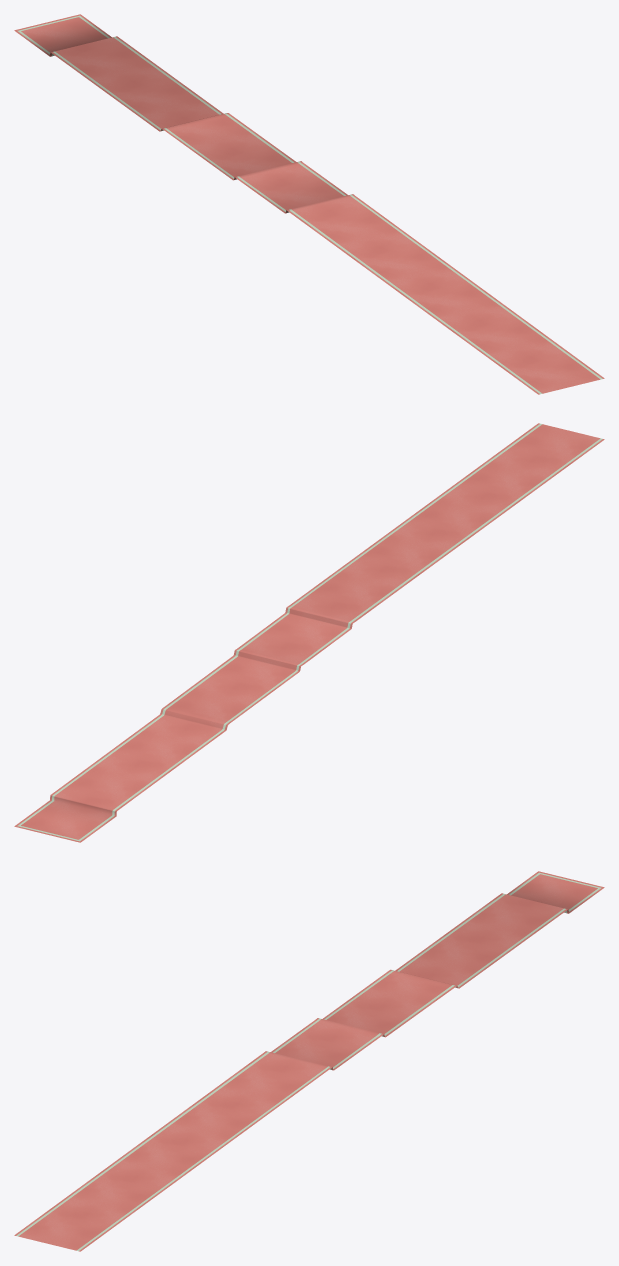
File: RedCarpet.glb
3 views of the same model, one above another, from view 1: azimuth 30°, elevation 25°; view 2: azimuth 150°, elevation 25°; view 3: azimuth 330°, elevation 25° (orthographic).
Visible parts, largest first — view 1: Red_Carpet; view 2: Red_Carpet; view 3: Red_Carpet.
Part boxes in pixels (box(x1,y1,x2,y2)): Red_Carpet: box(14, 14, 604, 394); Red_Carpet: box(14, 423, 604, 842); Red_Carpet: box(14, 871, 604, 1251).
Bounding box in the file's own units: 4.22 × 1.2 × 57.59.
Materials: 2 (1 with a texture image).
